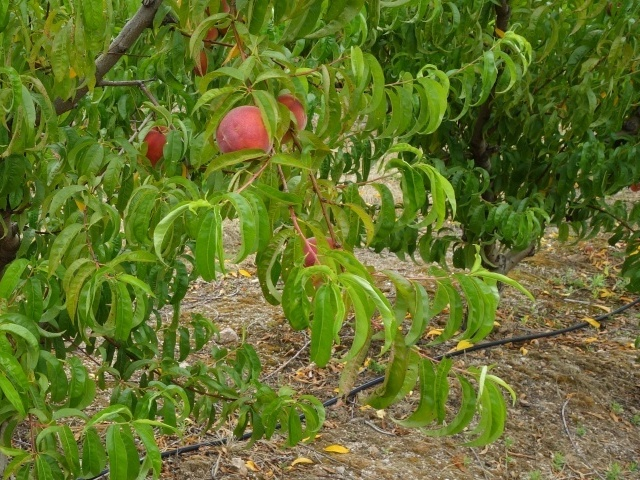peach: (214, 103, 277, 162), (269, 92, 312, 146), (141, 119, 180, 172), (300, 227, 339, 275), (187, 44, 215, 82), (194, 20, 222, 49)
